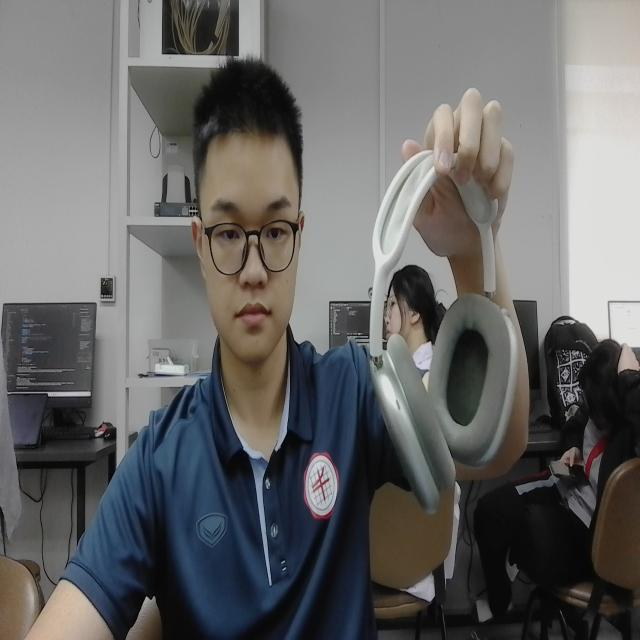airpods max: (354, 131, 524, 523)
